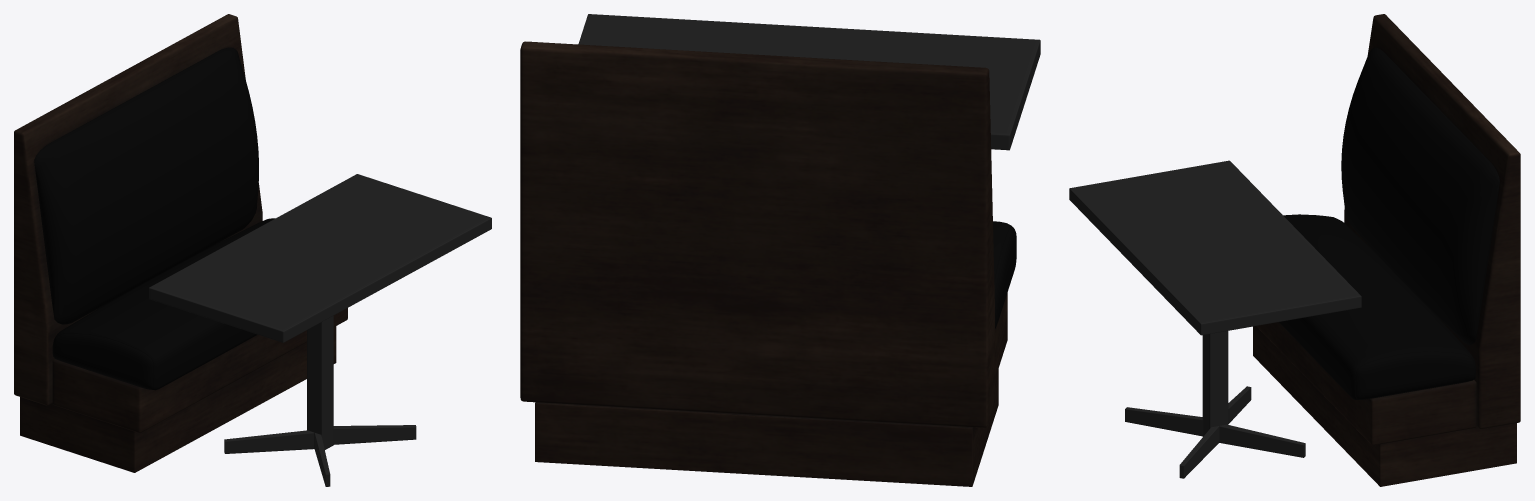
3 renders of one model, left to right at view 1: azimuth 30°, elevation 25°; view 2: azimuth 150°, elevation 25°; view 3: azimuth 270°, elevation 25°, orthographic. The views are drawn at different scales.
Parts seen in each view (by area): view 1: chair, table; view 2: chair, table; view 3: chair, table.
Boxes of the visible parts, box(x1,y1,x2,y2) form: chair: box(14, 14, 347, 472); table: box(149, 174, 491, 486); chair: box(520, 41, 1016, 486); table: box(578, 14, 1040, 150); chair: box(1253, 14, 1520, 486); table: box(1069, 160, 1361, 478).
Bounding box in the file's own units: 0.1434 × 0.1092 × 0.1418.
2 materials, 2 textured.
